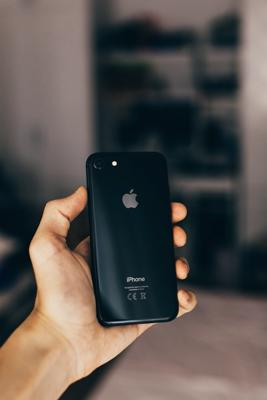cell-phone: (83, 146, 183, 326)
